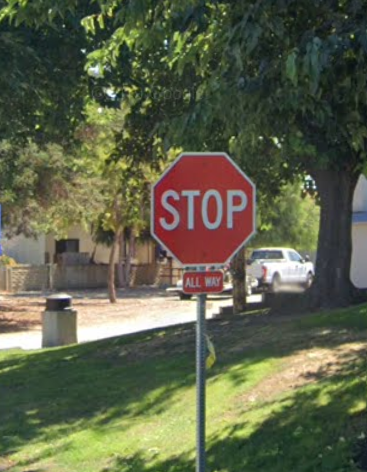stop_sign: (150, 154, 254, 263)
